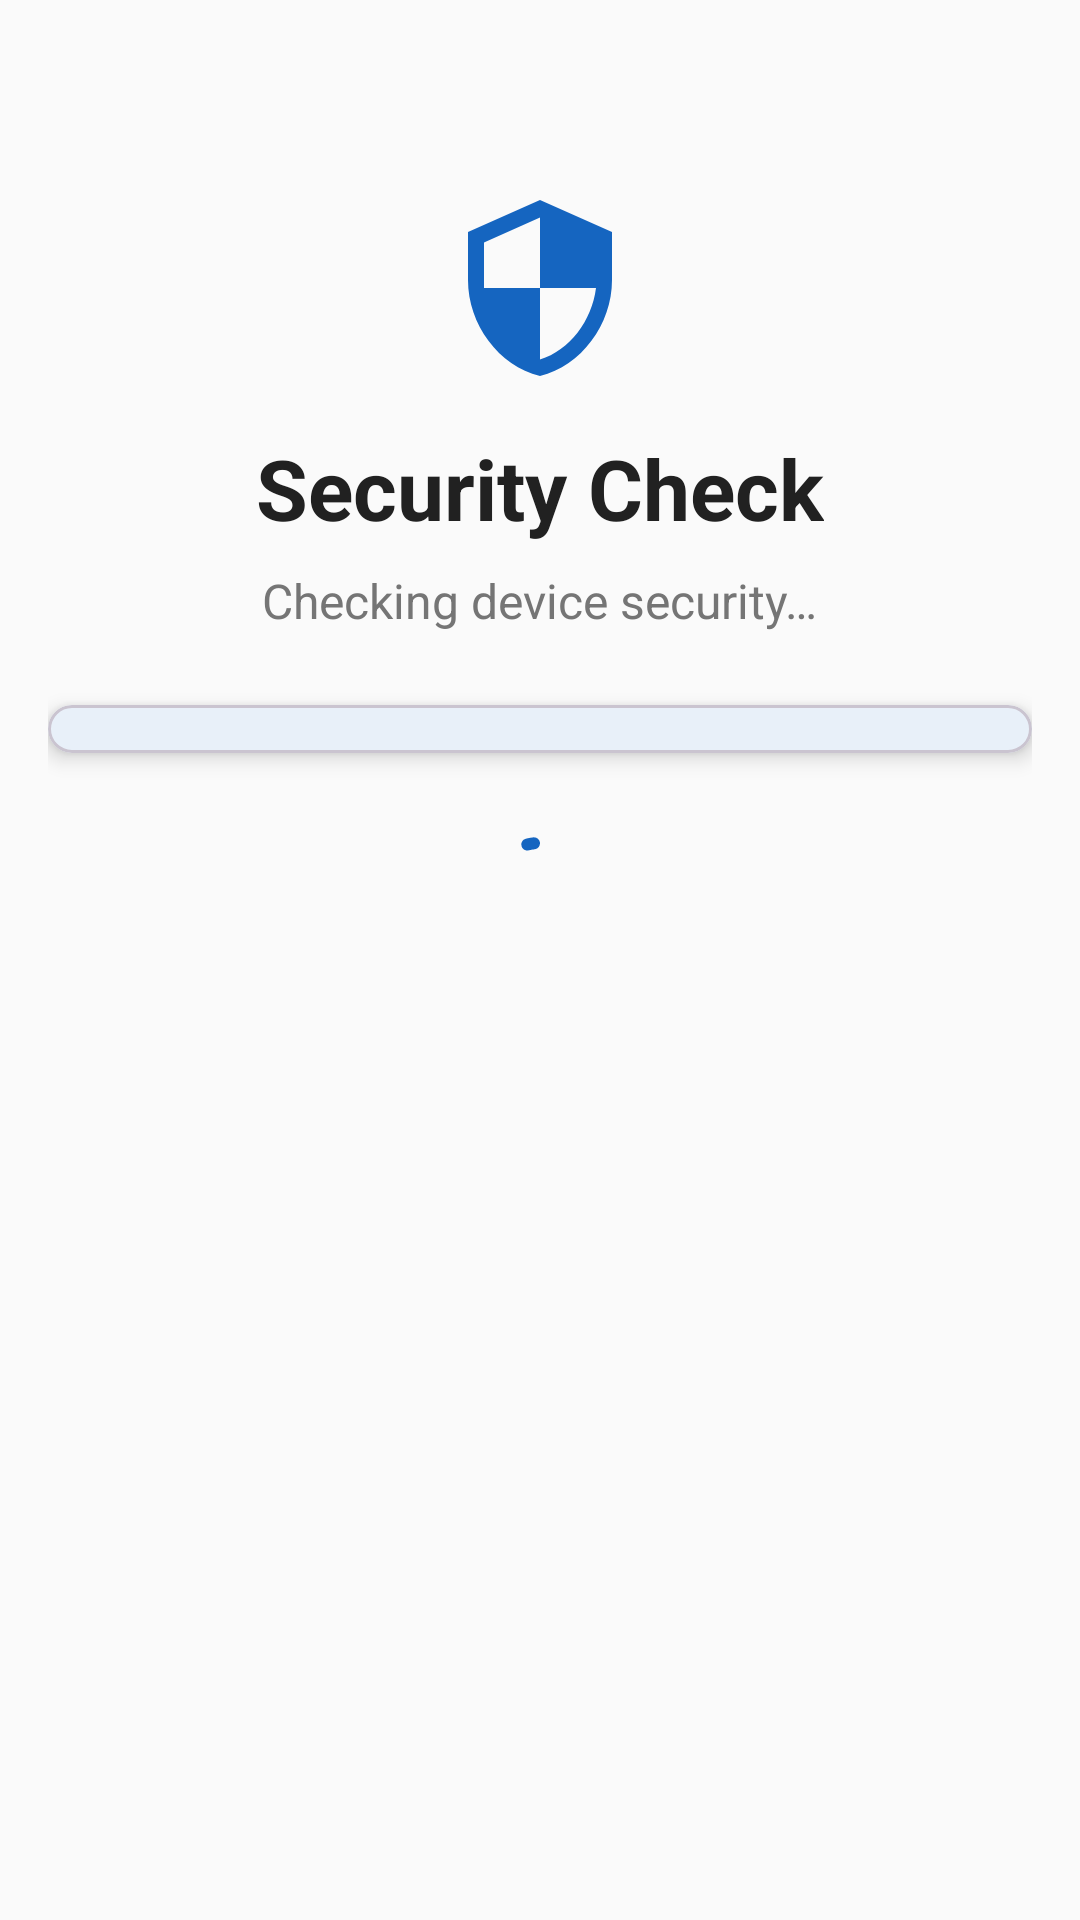

Screen size 1080x1920. Icon name, then its center in pixels as [x,y]:
shield: [540,288]
